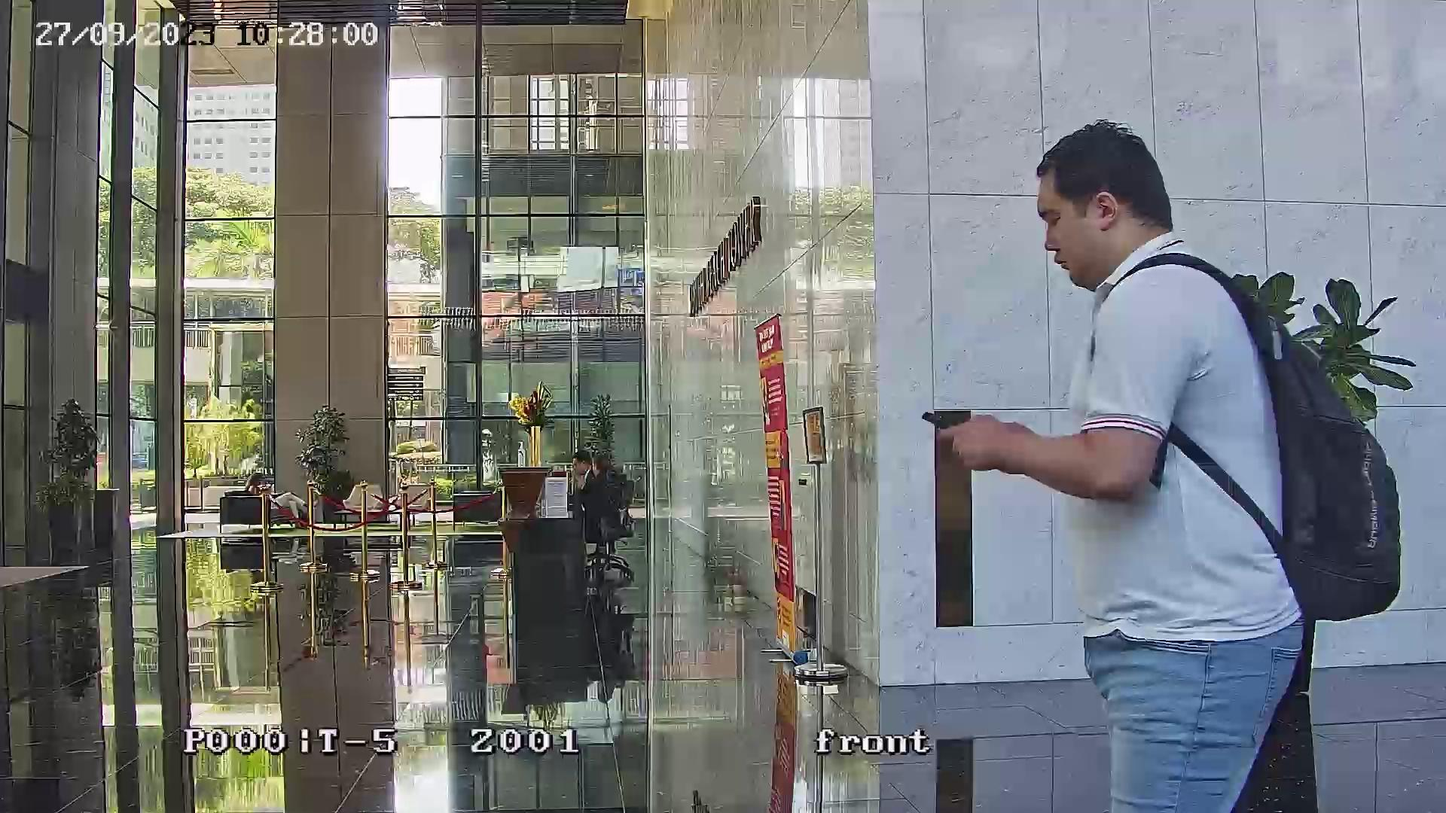person: (941, 120, 1305, 803), (245, 472, 318, 530), (571, 450, 616, 528), (594, 453, 614, 479)
